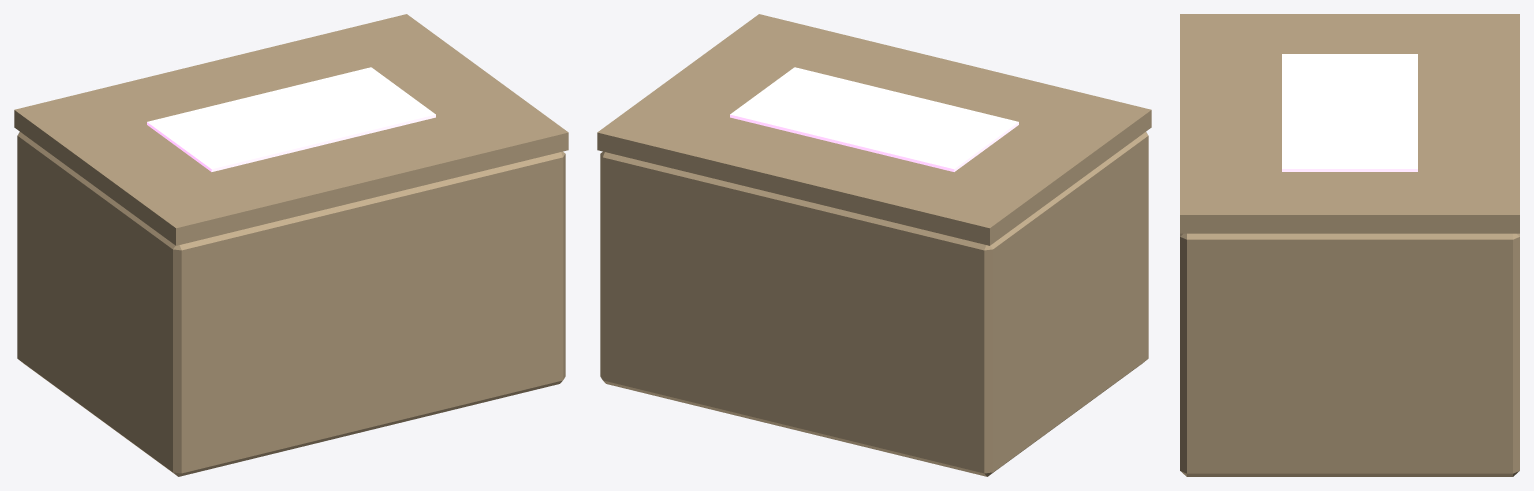
The picture shows the model from 3 angles, left to right: view 1: azimuth 30°, elevation 25°; view 2: azimuth 150°, elevation 25°; view 3: azimuth 270°, elevation 25°; orthographic projection. The views are drawn at different scales.
Visible parts, largest first — view 1: an_box, lid; view 2: an_box, lid; view 3: an_box, lid.
Part boxes in pixels (bbox=[...]): an_box: bbox=[17, 132, 565, 476]; lid: bbox=[14, 14, 568, 245]; an_box: bbox=[600, 132, 1148, 476]; lid: bbox=[597, 14, 1151, 245]; an_box: bbox=[1180, 233, 1519, 476]; lid: bbox=[1180, 14, 1519, 233].
Size of the model in its own units: 0.7 by 0.435 by 0.5.
